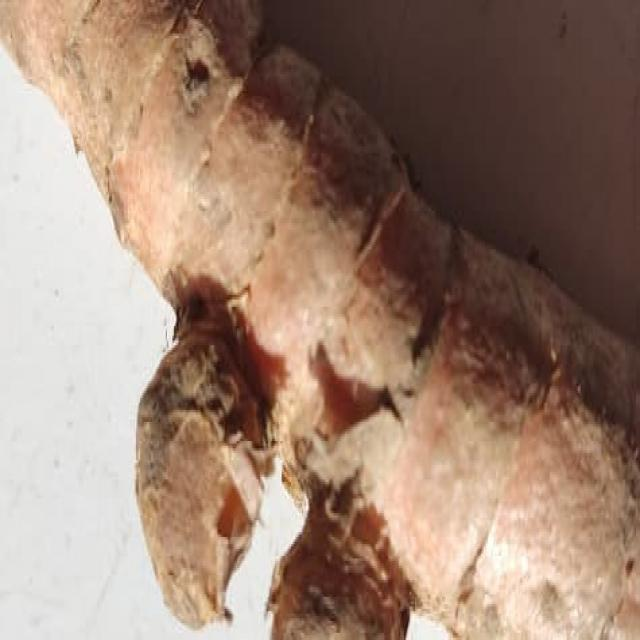ginger: (49, 0, 600, 603)
